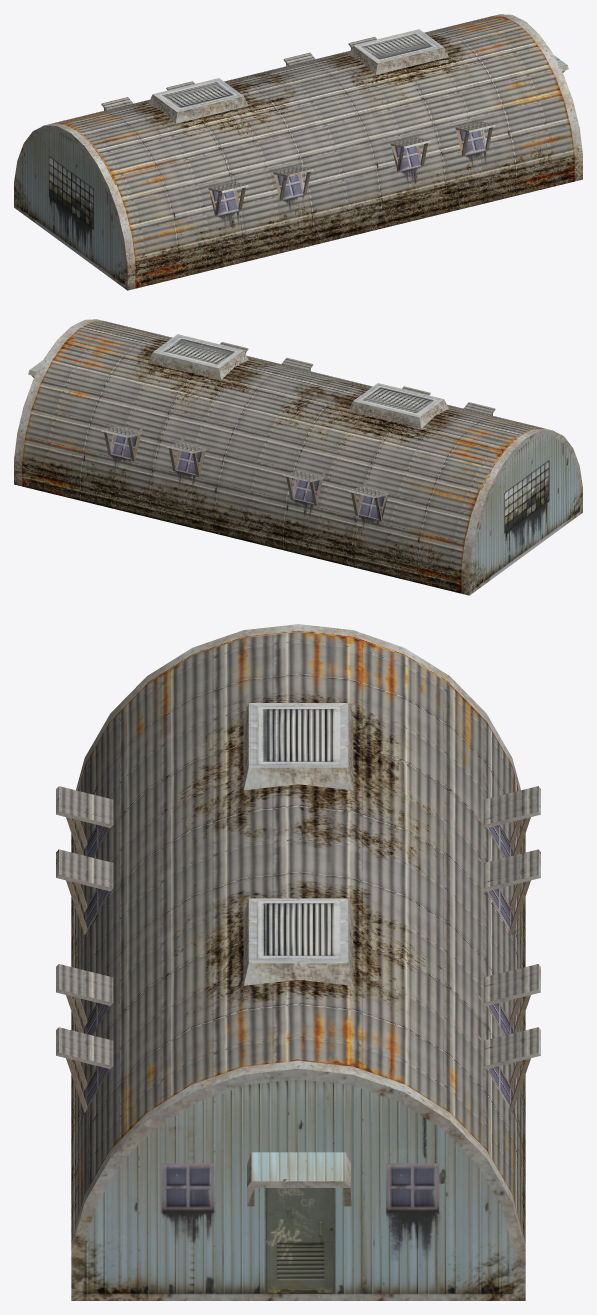
Rendered from Barrack.fbx.
3 renders of one model, top to bottom at view 1: azimuth 30°, elevation 25°; view 2: azimuth 150°, elevation 25°; view 3: azimuth 270°, elevation 25°, orthographic. The views are drawn at different scales.
Visible parts, largest first — view 1: Barrack; view 2: Barrack; view 3: Barrack.
Part boxes in pixels (<box>): Barrack: <box>14,14,582,290</box>; Barrack: <box>14,319,582,595</box>; Barrack: <box>56,624,540,1300</box>.
Bounding box in the file's own units: 14.94 × 3.61 × 6.46.
